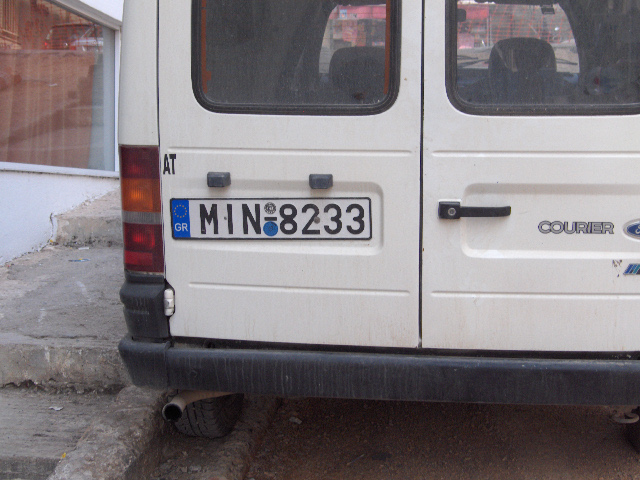licenseplate: (168, 196, 372, 240)
